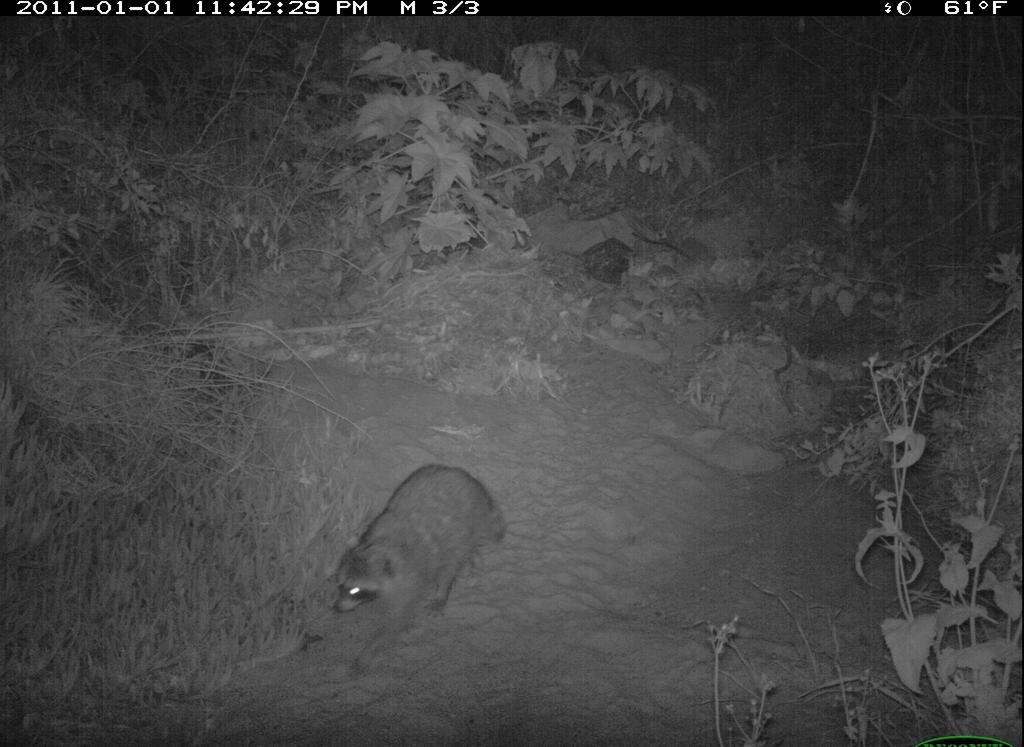raccoon: (326, 461, 519, 667)
